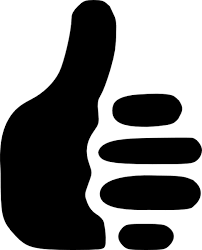thumbs_up: (4, 2, 192, 243)
